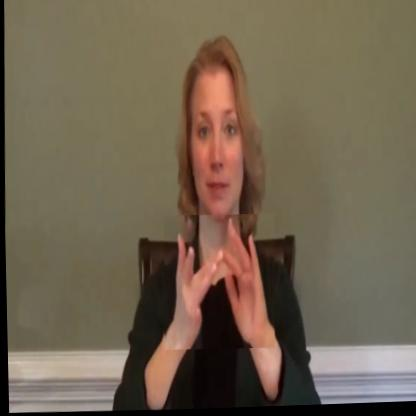Internet: (160, 213, 275, 352)
